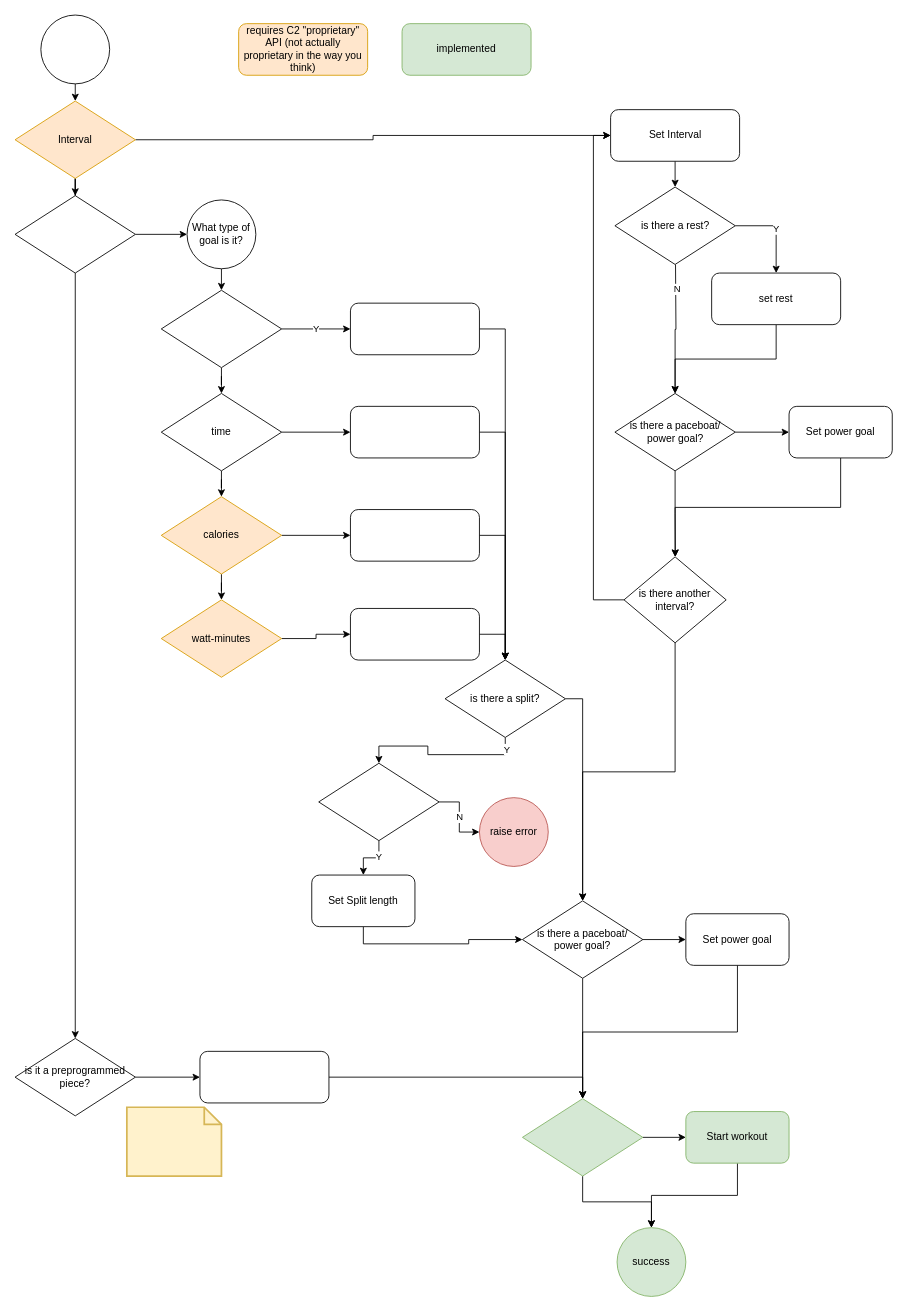
The diagram is 907 pixels wide and 1312 high, and some of its shapes have lost their labels. The shapes that lost their labels are listed below. From the top down, each one's box as (x1, y1, x2, y2) in pixels, then its label:
(40, 14, 110, 84): What type of piece is it?
(14, 195, 135, 273): fixed goal
(160, 289, 282, 368): distance
(350, 302, 479, 355): Set horizontal distance goal
(350, 405, 479, 458): Set work time goal
(350, 509, 479, 561): Set Calorie goal
(350, 608, 479, 660): set wattmin goal
(318, 762, 439, 841): is the split length legal/valid?
(199, 1050, 329, 1103): Set up the piece from the preprogrammed list
(126, 1106, 222, 1176): Just row too?
(522, 1098, 643, 1176): shoul the workout be started now?
